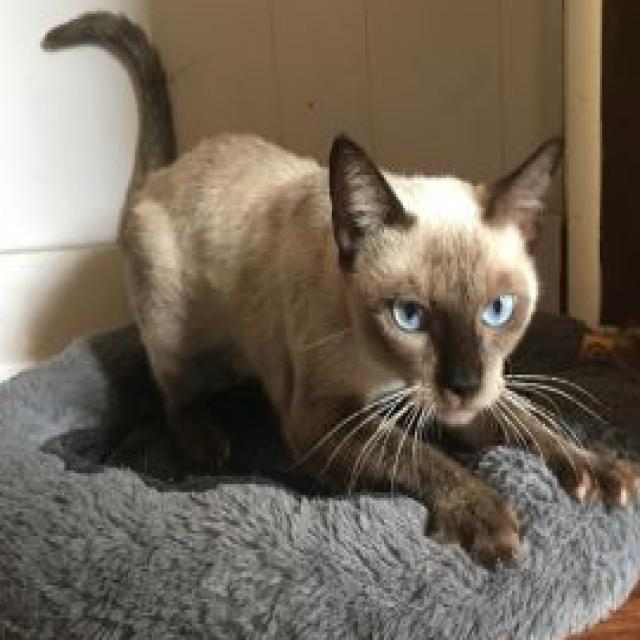Siamese: (38, 3, 640, 574)
